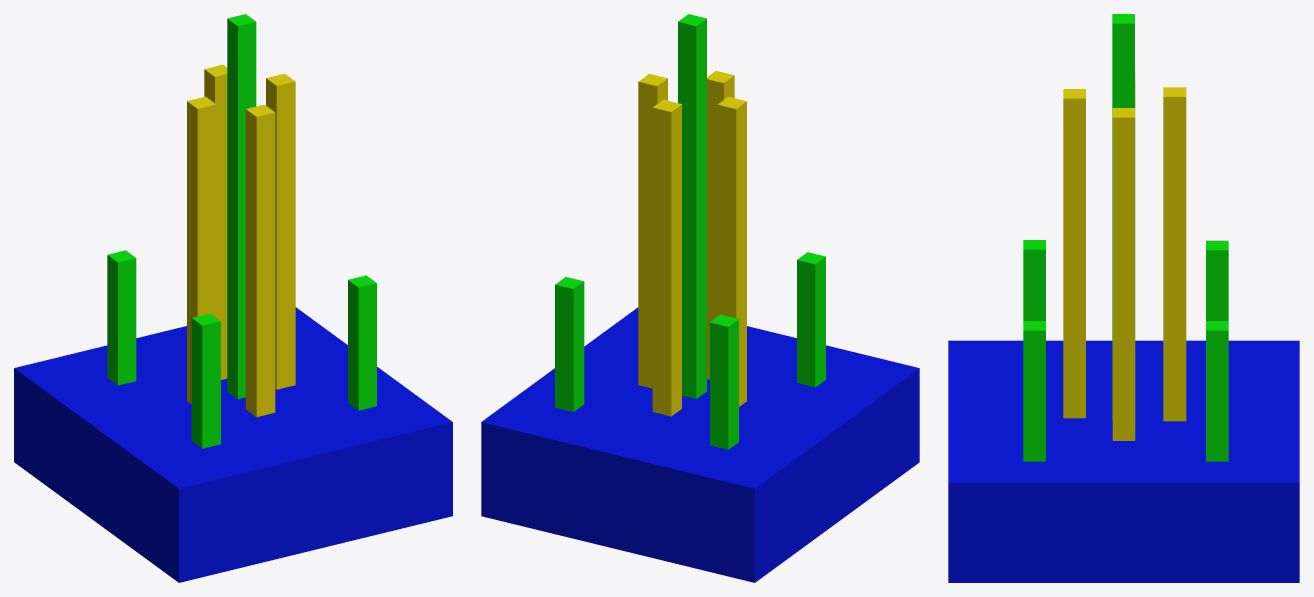
File: bluerecourcebuilding.glb
3 renders of one model, left to right at view 1: azimuth 30°, elevation 25°; view 2: azimuth 150°, elevation 25°; view 3: azimuth 270°, elevation 25°, orthographic. The views are drawn at different scales.
Parts seen in each view (by area): view 1: Cube.009, Cube.005, Cube.008, Cube.007, Cube.004, Cube, Cube.003, Cube.006, Cube.001; view 2: Cube.009, Cube.008, Cube.006, Cube.007, Cube.004, Cube.002, Cube, Cube.003, Cube.005; view 3: Cube.009, Cube.006, Cube.004, Cube.005, Cube.001, Cube.002, Cube.008, Cube, Cube.003.
Part boxes in pixels (x1,y1,x2,y2): Cube.009: [14, 307, 452, 582]; Cube.005: [245, 104, 275, 417]; Cube.008: [227, 14, 256, 399]; Cube.007: [187, 96, 216, 404]; Cube.004: [266, 73, 295, 389]; Cube: [191, 313, 220, 448]; Cube.003: [107, 250, 136, 385]; Cube.006: [204, 64, 227, 379]; Cube.001: [348, 275, 376, 410]; Cube.009: [481, 307, 919, 582]; Cube.008: [678, 14, 706, 398]; Cube.006: [652, 99, 681, 416]; Cube.007: [717, 96, 746, 406]; Cube.004: [638, 74, 667, 388]; Cube.002: [555, 277, 584, 411]; Cube: [797, 252, 825, 387]; Cube.003: [710, 314, 738, 449]; Cube.005: [707, 71, 734, 379]; Cube.009: [948, 340, 1299, 582]; Cube.006: [1163, 87, 1186, 421]; Cube.004: [1112, 108, 1135, 440]; Cube.005: [1063, 89, 1085, 418]; Cube.001: [1023, 321, 1045, 461]; Cube.002: [1206, 321, 1228, 461]; Cube.008: [1112, 14, 1134, 420]; Cube: [1023, 240, 1045, 320]; Cube.003: [1206, 240, 1228, 320].
Size of the model in its own units: 15.01 by 24.48 by 15.67.
